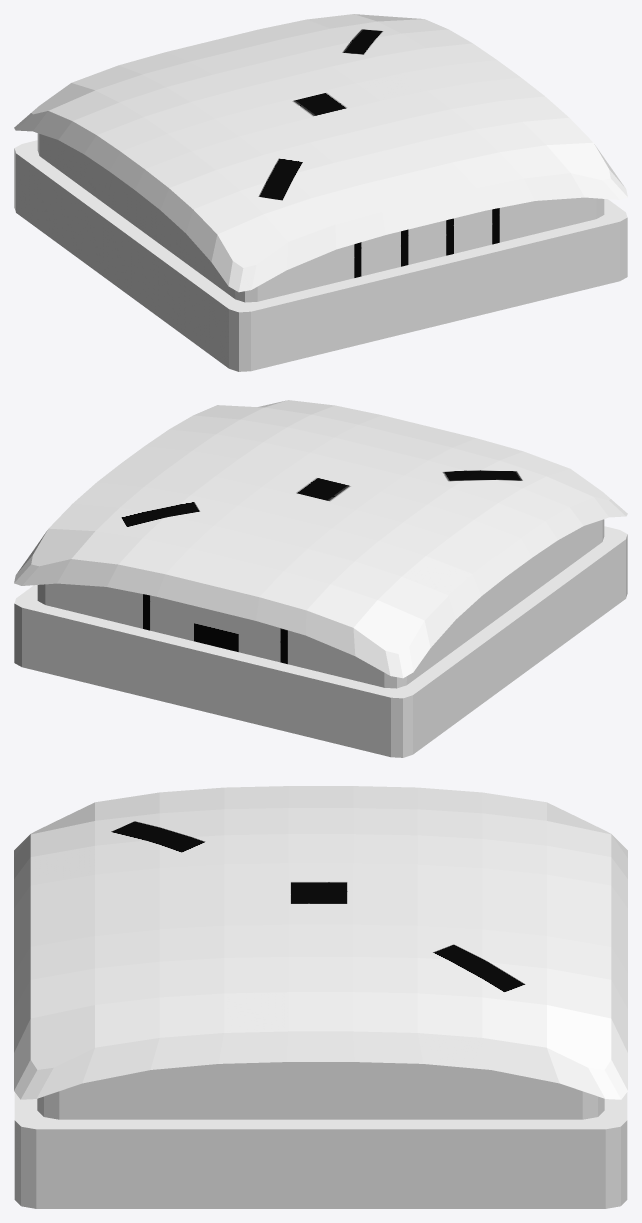
File: capteur.gltf
3 renders of one model, top to bottom at view 1: azimuth 30°, elevation 25°; view 2: azimuth 150°, elevation 25°; view 3: azimuth 270°, elevation 25°, orthographic. The views are drawn at different scales.
Parts seen in each view (by area): view 1: Capteur; view 2: Capteur; view 3: Capteur.
Boxes of the visible parts, box(x1,y1,x2,y2) form: Capteur: box(14, 14, 627, 371); Capteur: box(14, 400, 627, 757); Capteur: box(14, 786, 627, 1208).
Bounding box in the file's own units: 0.06 × 0.02 × 0.06.
Materials: 1 (1 with a texture image).
